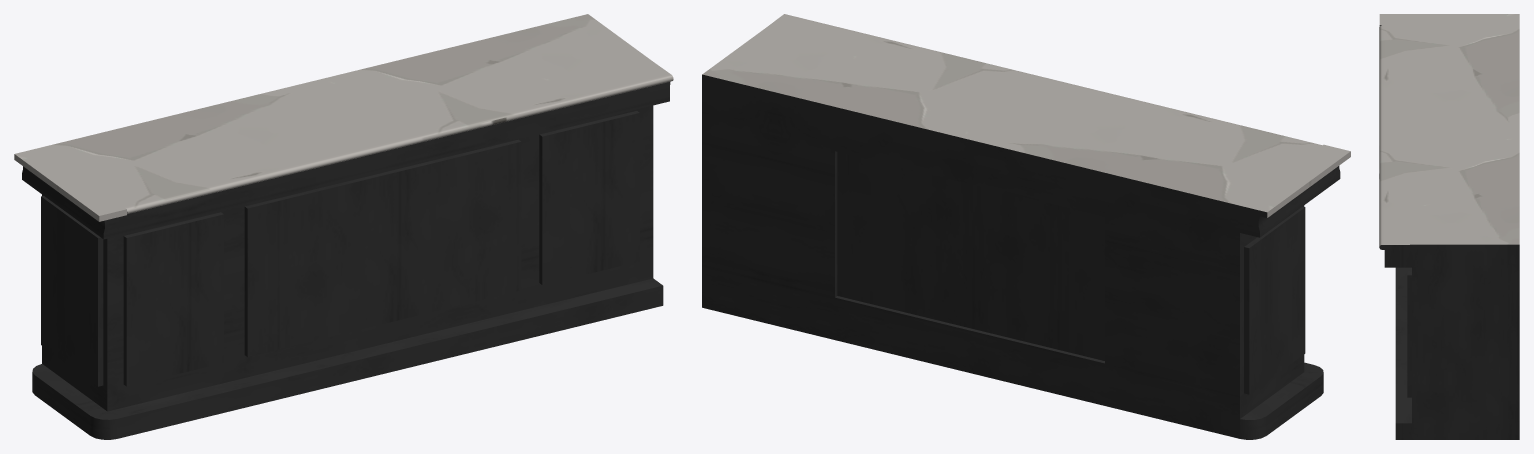
Rendered from Countertopendleft.fbx.
3 views of the same model, side by side, from view 1: azimuth 30°, elevation 25°; view 2: azimuth 150°, elevation 25°; view 3: azimuth 270°, elevation 25° (orthographic). The views are drawn at different scales.
Parts seen in each view (by area): view 1: endcounterright2; view 2: endcounterright2; view 3: endcounterright2.
Part boxes in pixels (x1=…): endcounterright2: x1=14, y1=14, x2=673, y2=439; endcounterright2: x1=702, y1=14, x2=1350, y2=439; endcounterright2: x1=1379, y1=14, x2=1519, y2=439.
Bounding box in the file's own units: 10.06 × 3.96 × 2.58.
Materials: 1 (1 with a texture image).
